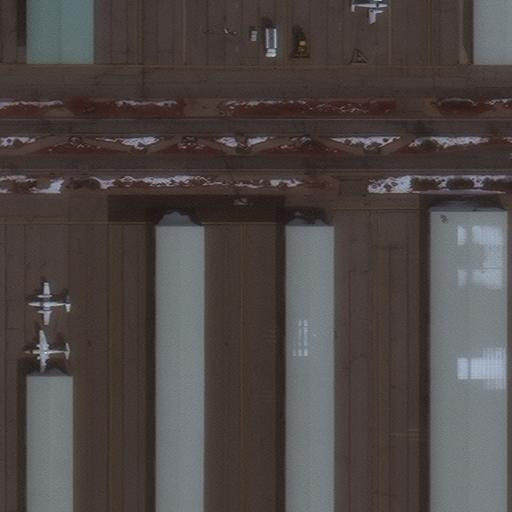Small Civil Transport: (23, 330, 71, 372), (27, 282, 71, 325), (349, 0, 389, 22)
